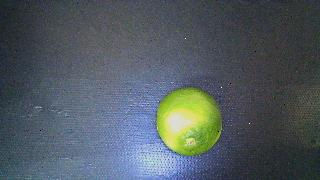EXPORTACION: (156, 88, 222, 156)
